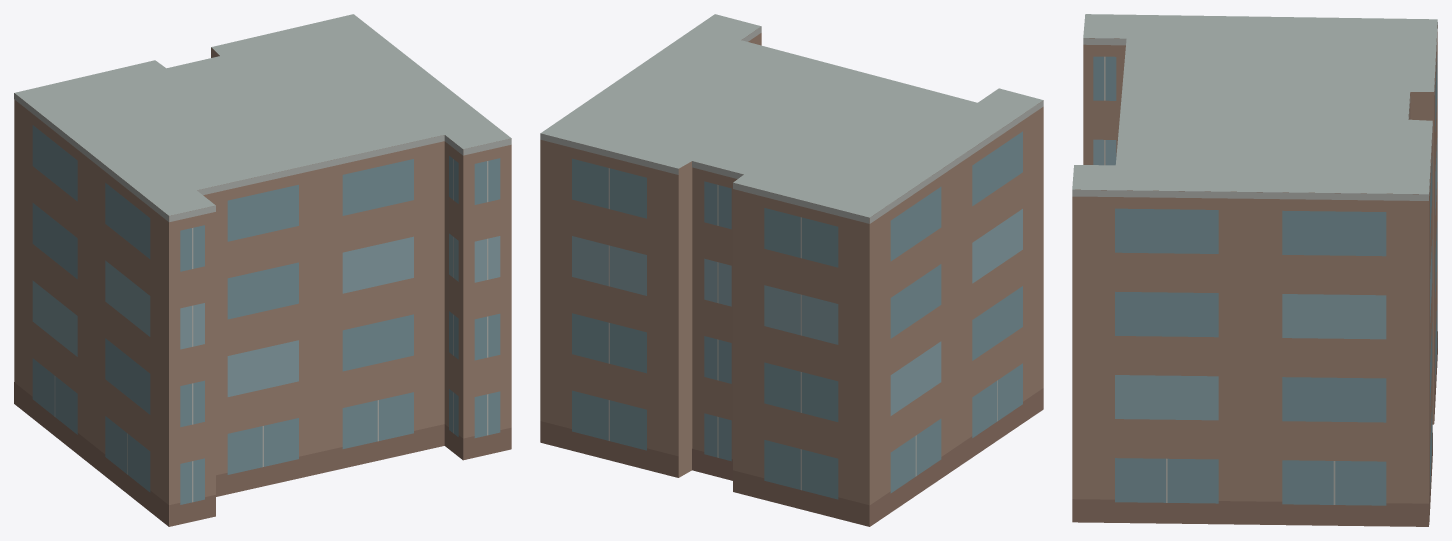
The model's file is survey-upis-32705388.glb.
The picture shows the model from 3 angles, left to right: view 1: azimuth 30°, elevation 25°; view 2: azimuth 150°, elevation 25°; view 3: azimuth 270°, elevation 25°; orthographic projection. The views are drawn at different scales.
Parts seen in each view (by area): view 1: survey-upis-32705388.tmp; view 2: survey-upis-32705388.tmp; view 3: survey-upis-32705388.tmp.
Boxes of the visible parts, box(x1,y1,x2,y2) form: survey-upis-32705388.tmp: box(14, 14, 511, 526); survey-upis-32705388.tmp: box(540, 14, 1043, 526); survey-upis-32705388.tmp: box(1072, 14, 1437, 526).
Bounding box in the file's own units: 13.84 × 11.9 × 11.87.
